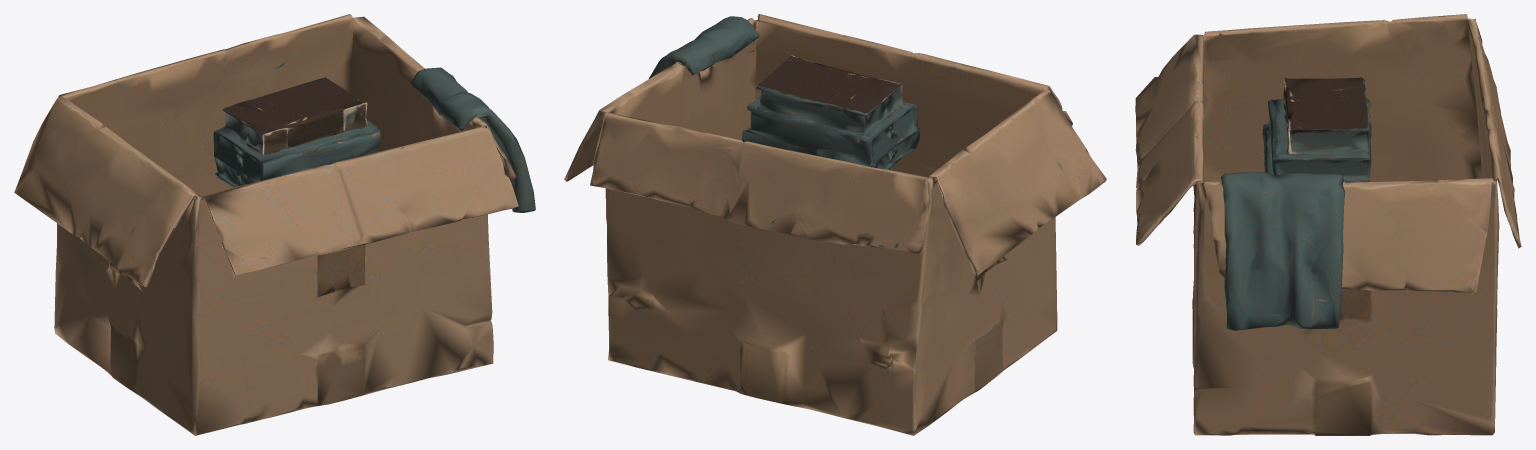
The model's file is boxesHQ.glb.
The picture shows the model from 3 angles, left to right: view 1: azimuth 30°, elevation 25°; view 2: azimuth 150°, elevation 25°; view 3: azimuth 270°, elevation 25°; orthographic projection. The views are drawn at different scales.
Bounding box in the file's own units: 1.9 × 1.1 × 1.45.
1 material, 1 textured.
